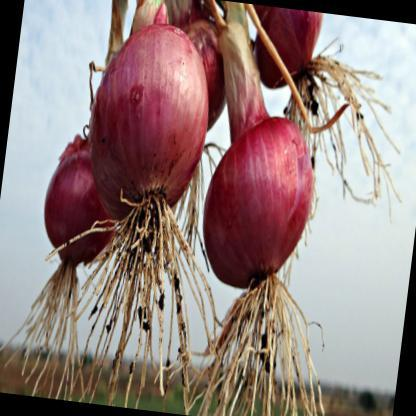onion: (74, 25, 220, 238), (193, 113, 342, 318)
